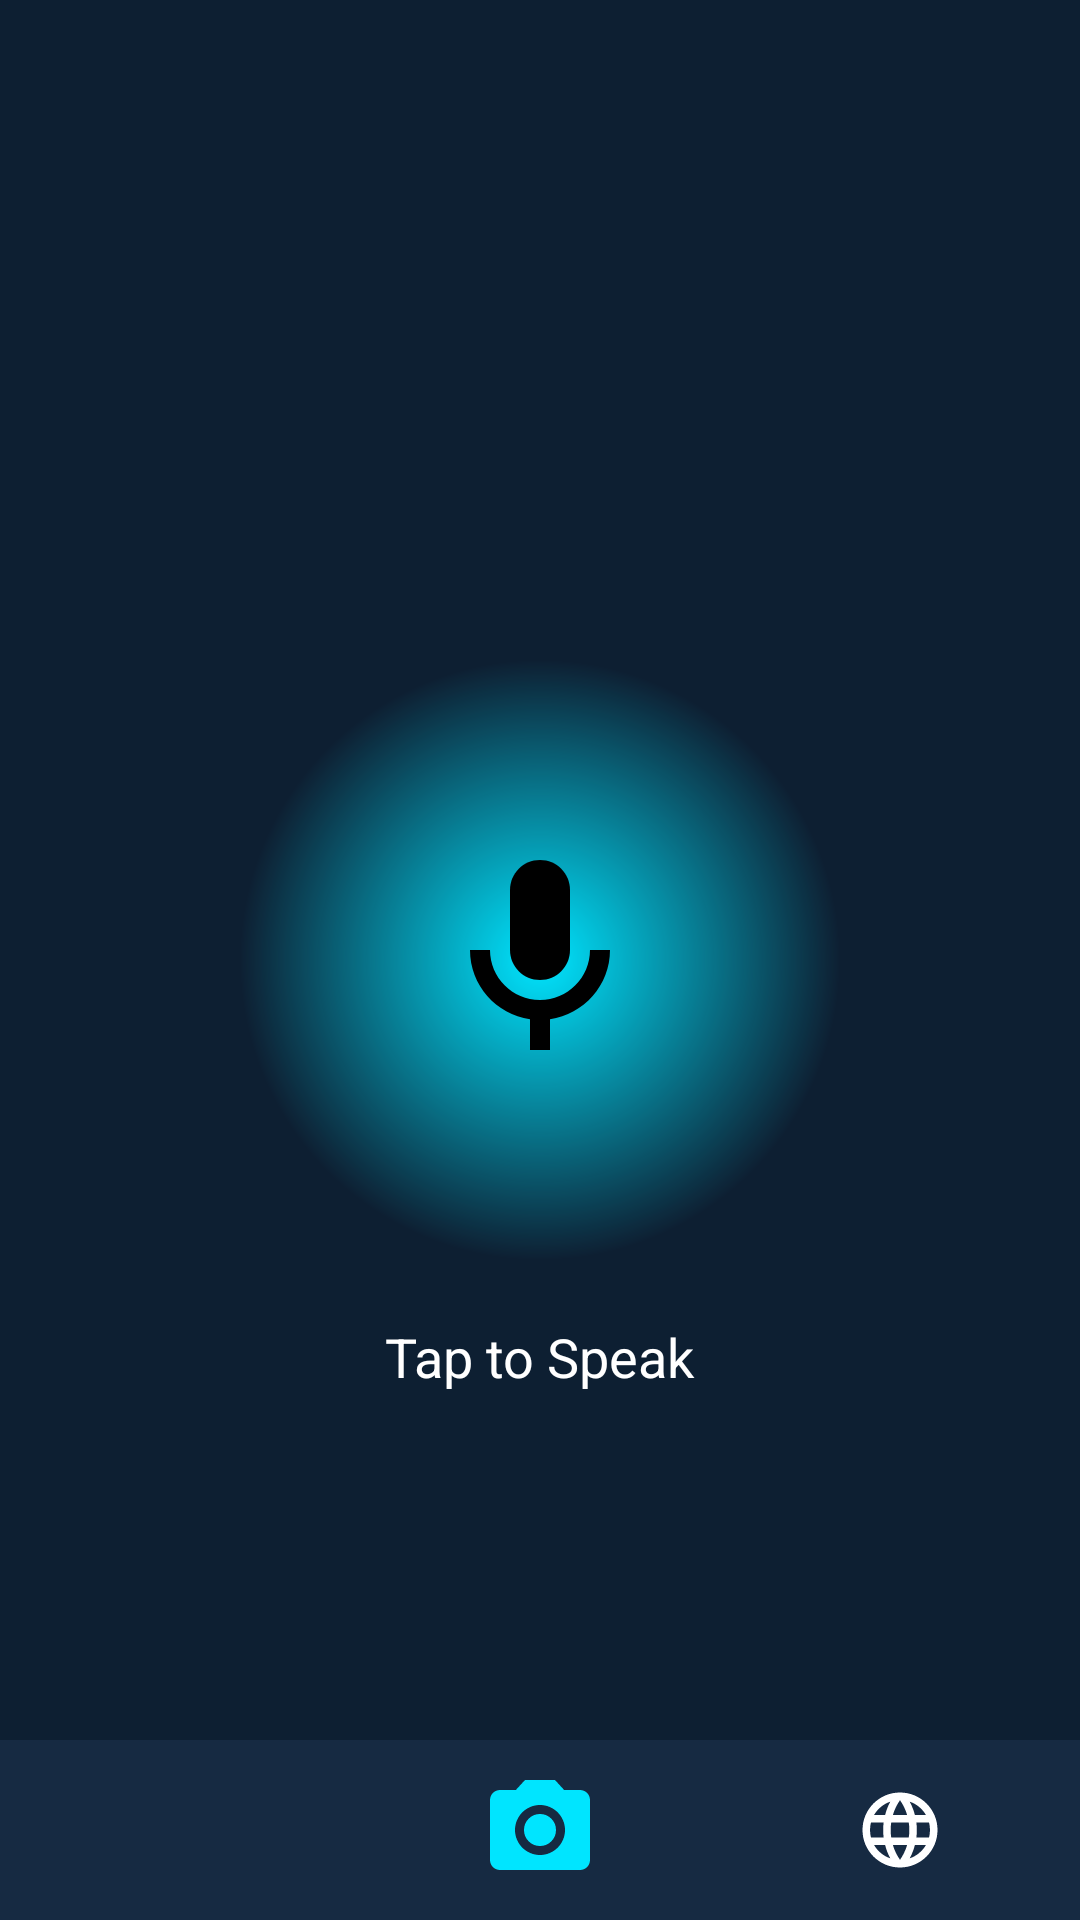

Screen size 1080 x 1920. Icon name, then its box in pixels as box(x1, y1, x2, y2):
camera: box(490, 1780, 590, 1870)
language: box(862, 1792, 938, 1868)
mic: box(450, 860, 630, 1050)
